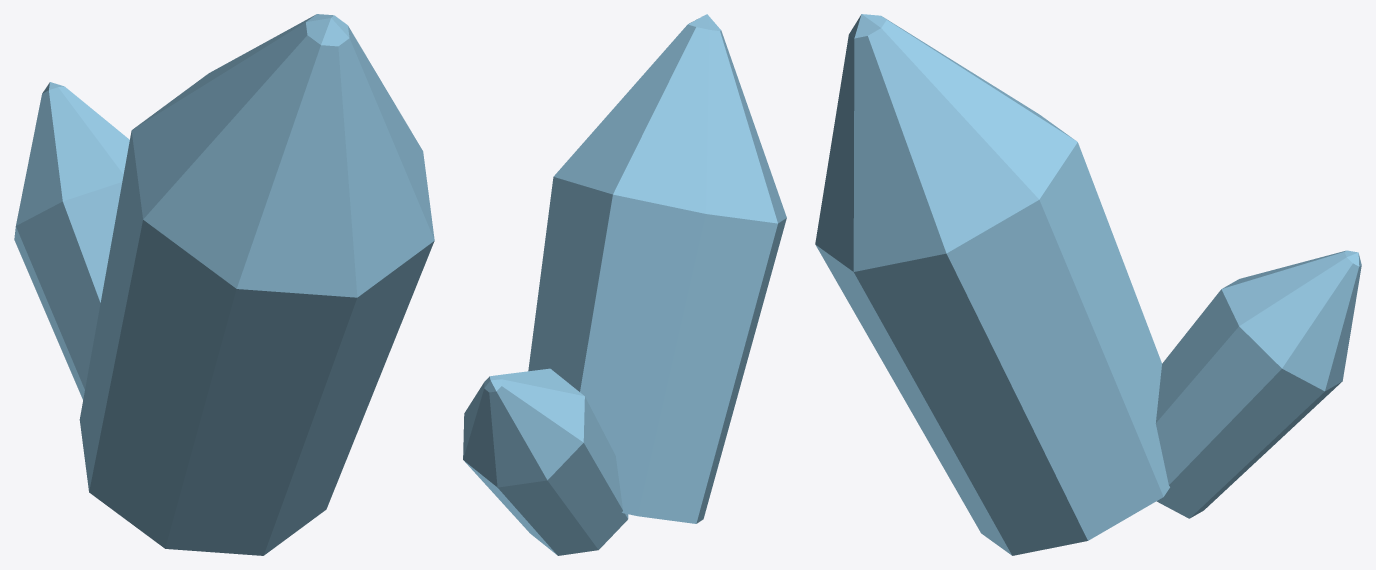
The model's file is Cristal2.fbx.
3 renders of one model, left to right at view 1: azimuth 30°, elevation 25°; view 2: azimuth 150°, elevation 25°; view 3: azimuth 270°, elevation 25°, orthographic. The views are drawn at different scales.
Visible parts, largest first — view 1: cristal.014; view 2: cristal.014; view 3: cristal.014.
Boxes of the visible parts, left/top/right/bottom form: cristal.014: left=14, top=14, right=434, bottom=555; cristal.014: left=463, top=14, right=786, bottom=555; cristal.014: left=815, top=14, right=1361, bottom=555.
Bounding box in the file's own units: 52.68 × 106 × 101.
